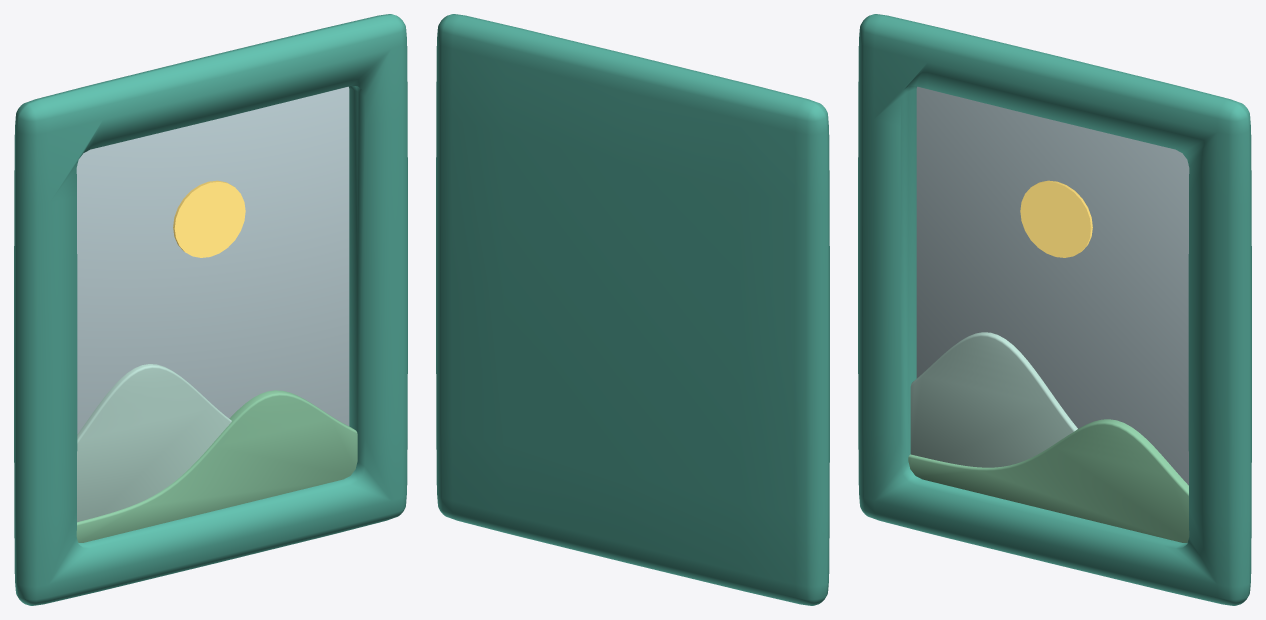
Rendered from picture_frame_a.glb.
3 views of the same model, side by side, from view 1: azimuth 30°, elevation 25°; view 2: azimuth 150°, elevation 25°; view 3: azimuth 330°, elevation 25° (orthographic).
Parts seen in each view (by area): view 1: body; view 2: body; view 3: body.
Part boxes in pixels (left/top/right/bottom): body: left=14, top=14, right=407, bottom=605; body: left=436, top=14, right=829, bottom=605; body: left=858, top=14, right=1251, bottom=605.
Size of the model in its own units: 0.42 by 0.52 by 0.0422.
